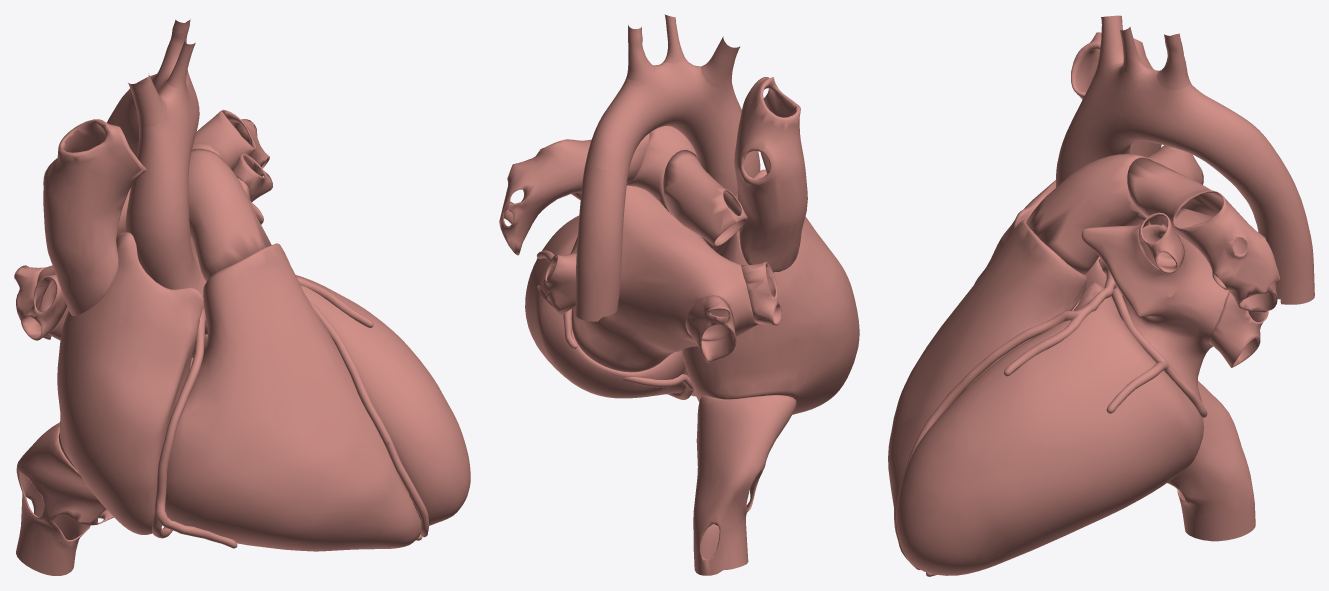
File: heart.glb
The picture shows the model from 3 angles, left to right: view 1: azimuth 30°, elevation 25°; view 2: azimuth 150°, elevation 25°; view 3: azimuth 270°, elevation 25°; orthographic projection. The views are drawn at different scales.
Visible parts, largest first — view 1: rv, ra, aorta, lv, vena_cava_sup, pulmonary_artery, vena_cava_inf, coronary, pulmonary_veins, la; view 2: aorta, la, ra, pulmonary_artery, vena_cava_inf, vena_cava_sup, lv, pulmonary_veins, coronary; view 3: lv, aorta, pulmonary_artery, rv, la, vena_cava_inf, coronary, pulmonary_veins, vena_cava_sup, ra.
Boxes of the visible parts, x1,y1,x2,y2 form: rv: (165, 243, 420, 551); ra: (57, 232, 203, 534); aorta: (107, 19, 200, 289); lv: (192, 275, 470, 525); vena_cava_sup: (43, 119, 146, 315); pulmonary_artery: (117, 109, 271, 281); vena_cava_inf: (16, 422, 113, 575); coronary: (152, 257, 428, 548); pulmonary_veins: (14, 153, 272, 340); la: (37, 178, 263, 340); aorta: (575, 14, 760, 321); la: (570, 185, 758, 372); ra: (682, 169, 859, 414); pulmonary_artery: (499, 126, 747, 255); vena_cava_inf: (693, 395, 796, 575); vena_cava_sup: (734, 77, 807, 272); lv: (525, 215, 686, 398); pulmonary_veins: (537, 192, 781, 362); coronary: (537, 250, 693, 399); lv: (896, 282, 1203, 575); aorta: (1056, 15, 1314, 304); pulmonary_artery: (1026, 145, 1279, 312); rv: (888, 219, 1087, 538); la: (1081, 225, 1228, 402); vena_cava_inf: (1167, 381, 1255, 541); coronary: (895, 258, 1207, 576); pulmonary_veins: (1138, 212, 1268, 367); vena_cava_sup: (1071, 32, 1161, 157); ra: (974, 180, 1140, 295).
Bounding box in the file's own units: 1.24 × 1.85 × 1.28.
